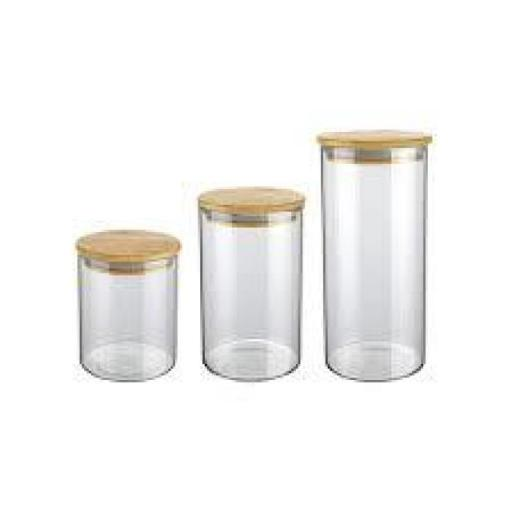glass: (319, 132, 431, 378), (198, 188, 304, 378), (76, 230, 180, 380)
